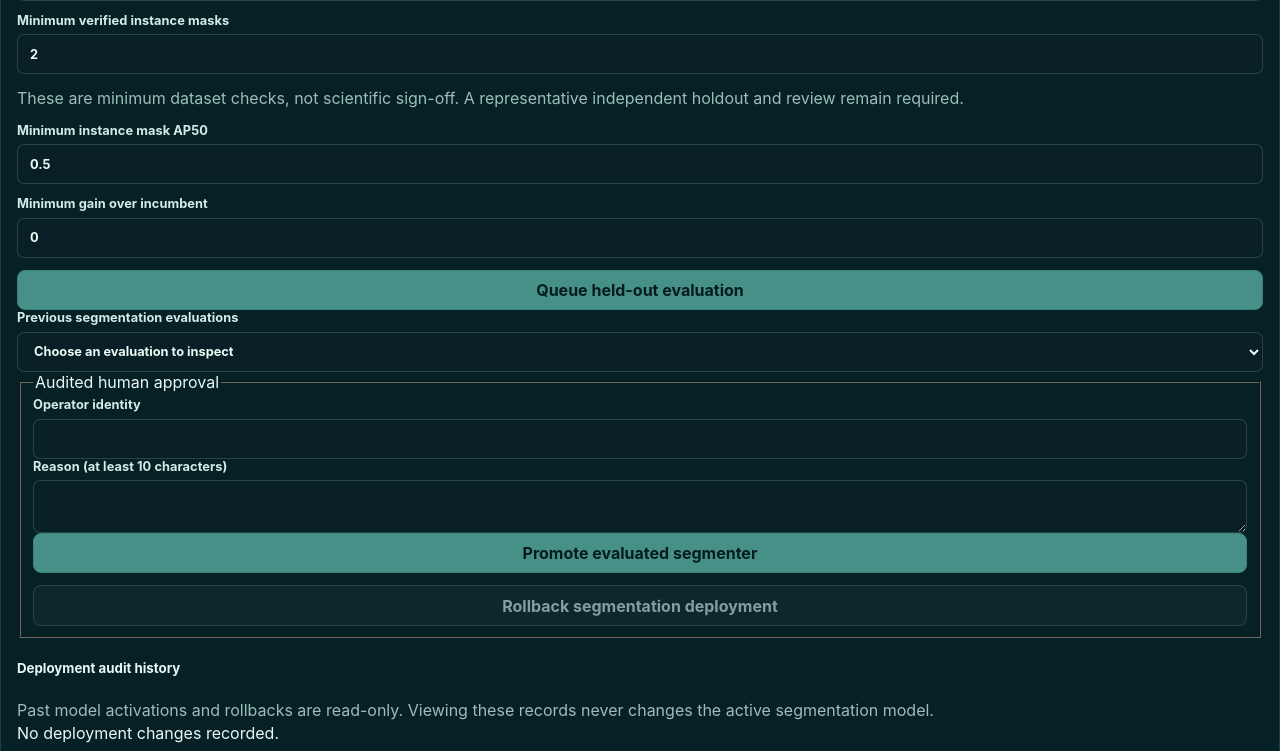
Test: SegmentationEvaluationPanel › does not display or promote another project's evaluation record
(page scrolled)
Select "completed: candidate" in the dropdown named "Segmentation evaluation history": (640, 352) [17,332,1263,372]
(page scrolled)
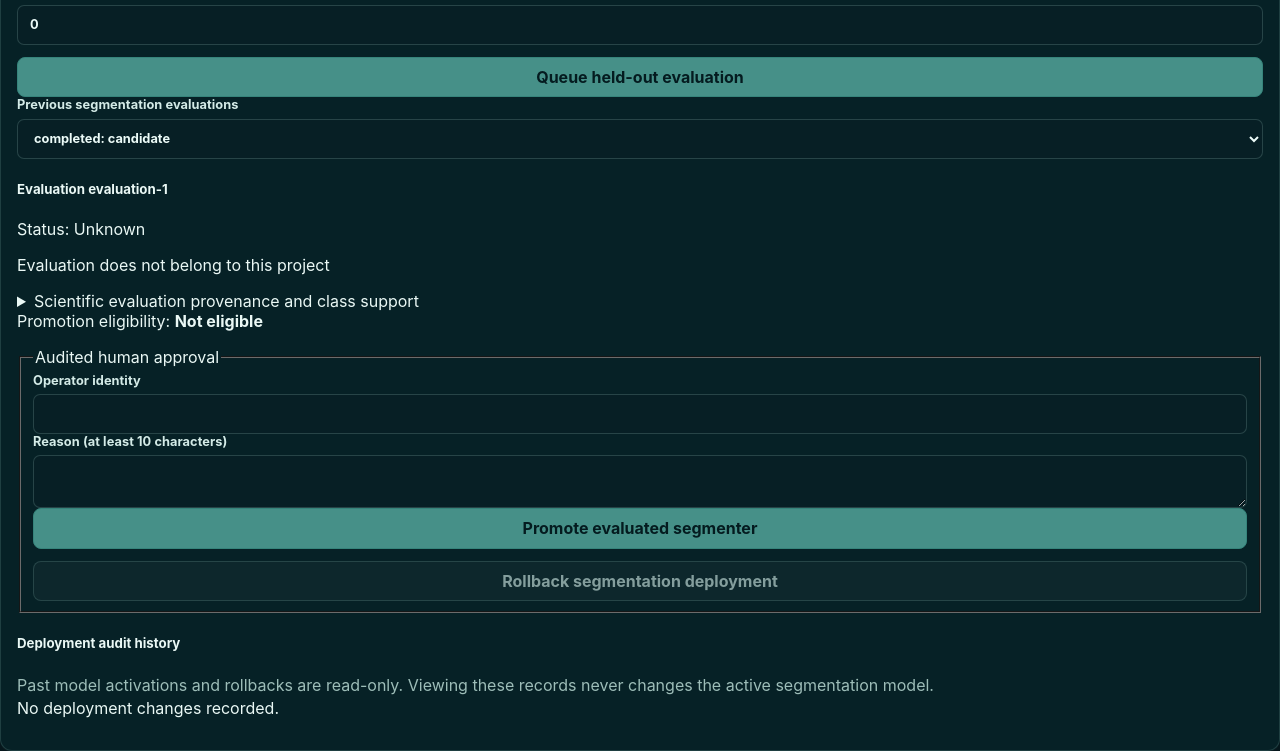
expect the button "Promote evaluated segmenter" is disabled: met, box [33,508,1247,549]
expect the text "Evaluation does not belong to this project" is shown: met, box [17,255,330,275]
